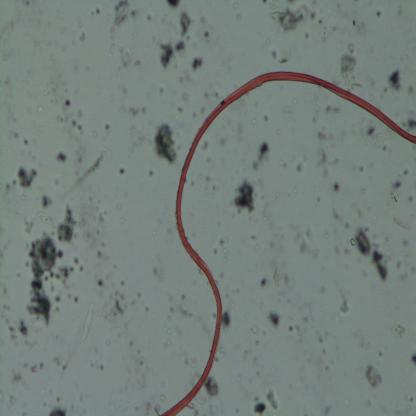Background material: (23, 235, 73, 327), (347, 224, 389, 284), (260, 0, 329, 33), (311, 119, 348, 179), (91, 258, 130, 314), (83, 193, 113, 259), (72, 142, 112, 190), (57, 93, 88, 138), (340, 40, 363, 92), (153, 123, 179, 168), (229, 174, 257, 214), (358, 117, 390, 151), (160, 292, 193, 323), (55, 204, 81, 241), (109, 0, 131, 41), (257, 268, 292, 293), (42, 71, 70, 102), (80, 298, 97, 346), (251, 386, 279, 414), (12, 163, 40, 191), (159, 39, 186, 67), (298, 224, 318, 257), (325, 204, 351, 229), (252, 140, 272, 172), (364, 364, 386, 393), (270, 44, 294, 66), (128, 335, 144, 367), (118, 45, 142, 66), (385, 68, 403, 96), (212, 230, 230, 258), (201, 174, 221, 198), (140, 396, 163, 416), (398, 259, 416, 284), (3, 312, 17, 344), (122, 104, 148, 121), (349, 10, 366, 35), (19, 359, 46, 374), (178, 9, 191, 40), (204, 378, 220, 402), (88, 356, 108, 374), (289, 324, 304, 347), (51, 354, 68, 374), (339, 288, 351, 316), (393, 213, 409, 234), (22, 208, 34, 233), (38, 191, 54, 209), (318, 328, 328, 356), (280, 101, 294, 121), (267, 310, 281, 329), (392, 317, 404, 339), (9, 371, 25, 387), (221, 309, 232, 332), (189, 55, 203, 72), (4, 180, 17, 198), (73, 255, 85, 274), (391, 178, 405, 194), (17, 318, 28, 338), (54, 150, 69, 164), (49, 405, 68, 416), (177, 86, 190, 102), (402, 117, 416, 131), (38, 210, 52, 224), (132, 286, 144, 302), (321, 402, 334, 416), (100, 119, 112, 134), (166, 0, 182, 11), (87, 4, 101, 16), (332, 182, 344, 194), (249, 319, 258, 335), (401, 238, 411, 252), (189, 108, 206, 116), (19, 134, 30, 146), (119, 160, 128, 174), (373, 6, 384, 17), (249, 232, 259, 244), (263, 112, 273, 124), (8, 128, 20, 138), (19, 0, 32, 9), (220, 133, 227, 149), (240, 348, 250, 359), (108, 43, 118, 54), (142, 303, 152, 314), (297, 161, 304, 176), (147, 166, 156, 177), (77, 29, 86, 40), (3, 301, 12, 312), (326, 107, 337, 116), (131, 10, 142, 18), (322, 228, 329, 240), (200, 13, 207, 25), (361, 187, 368, 198), (404, 167, 412, 176), (334, 246, 340, 258), (272, 191, 282, 198), (15, 267, 22, 277), (204, 31, 210, 42), (356, 166, 364, 174), (202, 142, 210, 150), (206, 155, 214, 163), (292, 190, 300, 197), (174, 109, 185, 114), (10, 398, 16, 407), (412, 352, 416, 365), (255, 338, 260, 348), (74, 297, 80, 304), (275, 129, 280, 136), (316, 195, 320, 202), (294, 100, 300, 104)
Microfibre: (157, 71, 416, 414)
